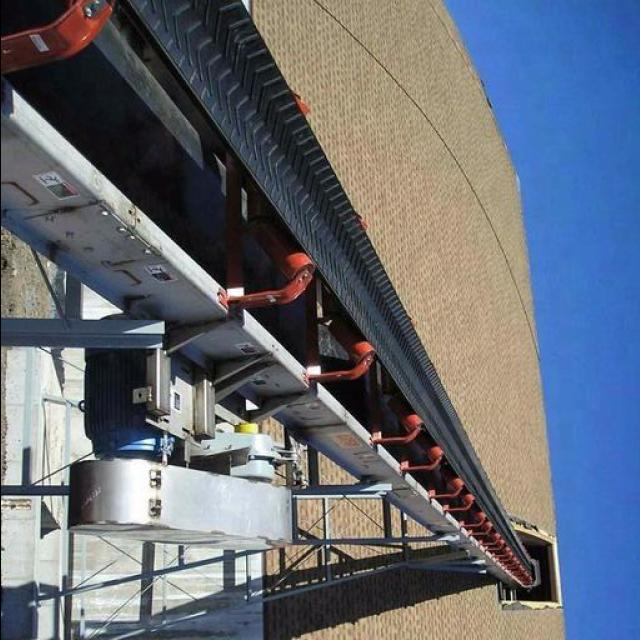conveyor: (114, 0, 530, 570)
